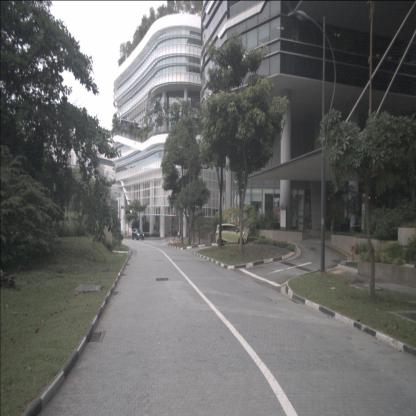cone: (168, 239, 171, 244), (178, 237, 180, 244), (174, 238, 176, 244)
